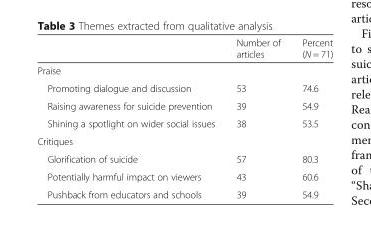table: (36, 36, 332, 199)
table column: (36, 36, 224, 199), (224, 36, 290, 199), (290, 36, 332, 199)
table column header: (36, 36, 332, 61)
table projected row header: (36, 61, 332, 79), (36, 132, 332, 149)
table row: (36, 36, 332, 61), (36, 61, 332, 79), (36, 96, 332, 114), (36, 114, 332, 132), (36, 149, 332, 167), (36, 167, 332, 185), (36, 79, 332, 96), (36, 132, 332, 149), (36, 185, 332, 199)
